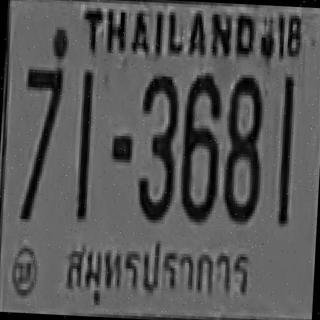N01: (75, 69, 95, 213), (276, 76, 294, 220), (277, 74, 294, 206)
N03: (135, 72, 179, 221)
N06: (177, 73, 221, 222)
N07: (20, 65, 62, 216), (20, 66, 62, 200), (22, 66, 62, 185), (22, 66, 62, 171), (22, 66, 61, 159)
N08: (221, 74, 265, 222)
P57: (58, 230, 262, 318)
